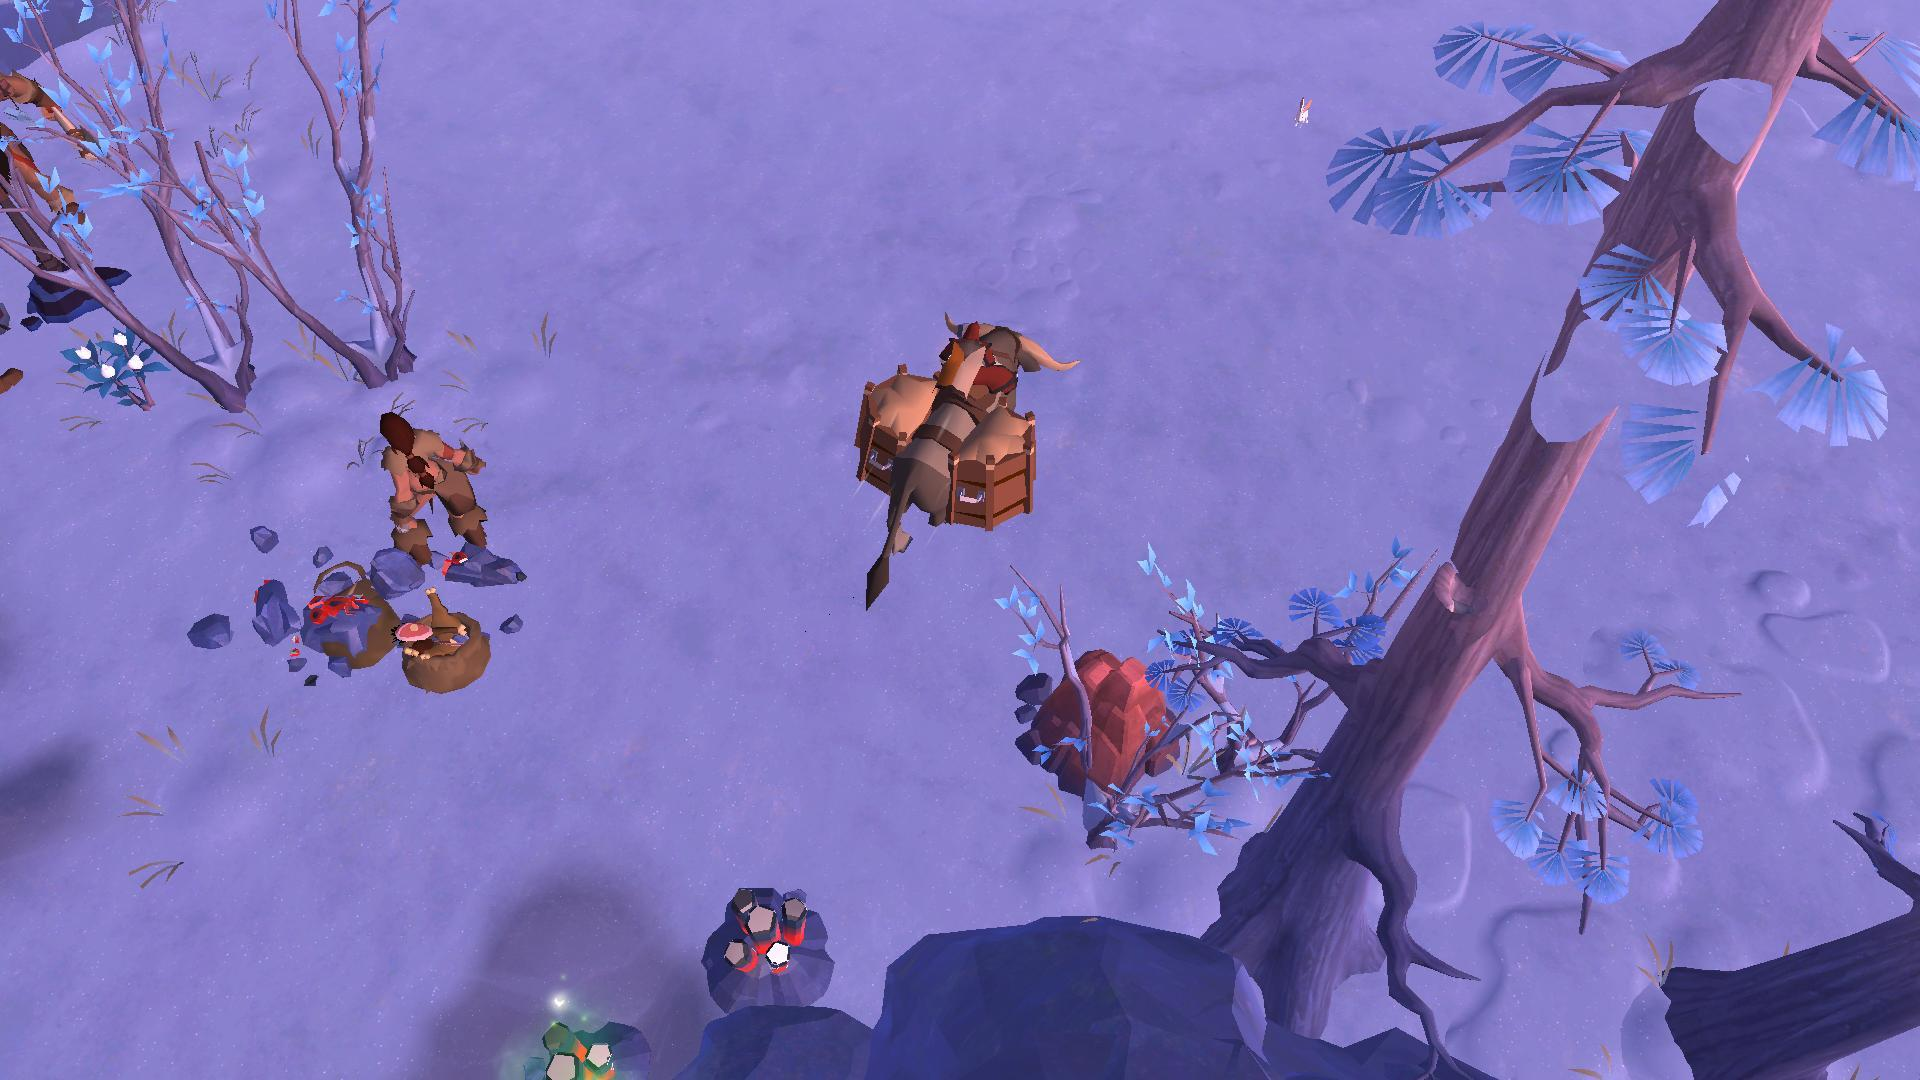enemy_factionKeeper: (371, 407, 496, 567), (0, 57, 94, 228)
ore_t5: (522, 1009, 634, 1080), (721, 895, 810, 980)
rock_t5: (1019, 644, 1180, 796)
